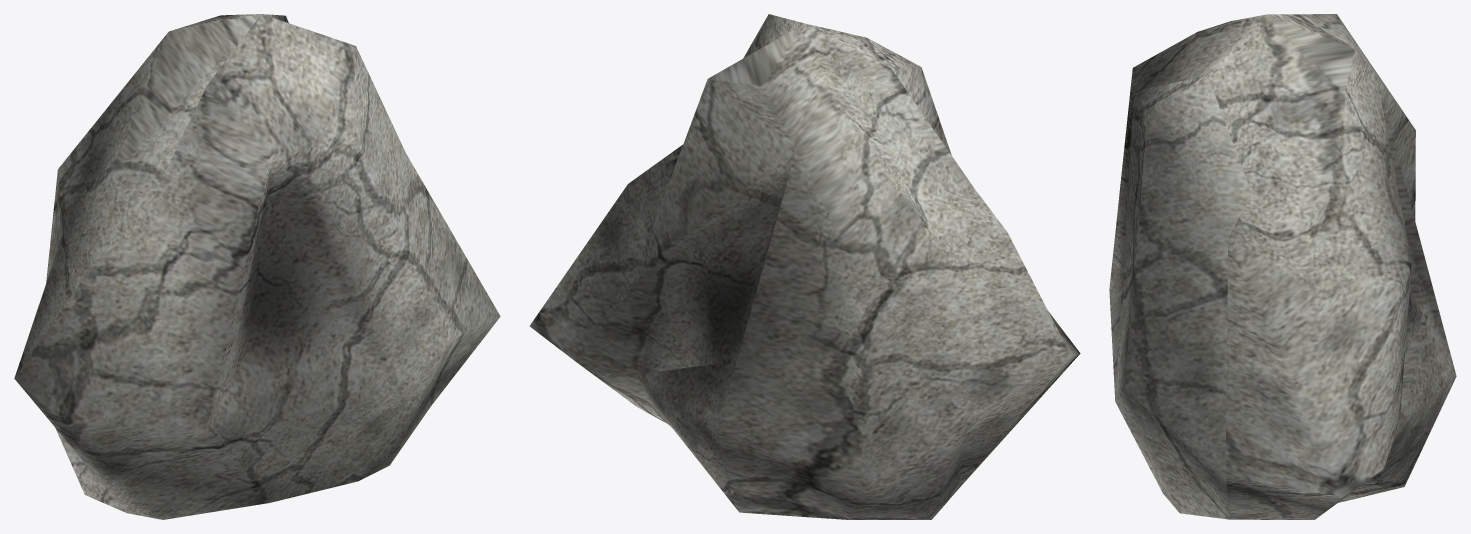
The model's file is Asteroid3.fbx.
3 views of the same model, side by side, from view 1: azimuth 30°, elevation 25°; view 2: azimuth 150°, elevation 25°; view 3: azimuth 270°, elevation 25° (orthographic). The views are drawn at different scales.
Visible parts, largest first — view 1: pSphere1; view 2: pSphere1; view 3: pSphere1.
Part boxes in pixels (x1,y1,x2,y2): pSphere1: [14, 14, 500, 519]; pSphere1: [529, 14, 1080, 519]; pSphere1: [1109, 14, 1456, 519].
Size of the model in its own units: 2.29 by 2.09 by 1.31.
1 material, 1 textured.
